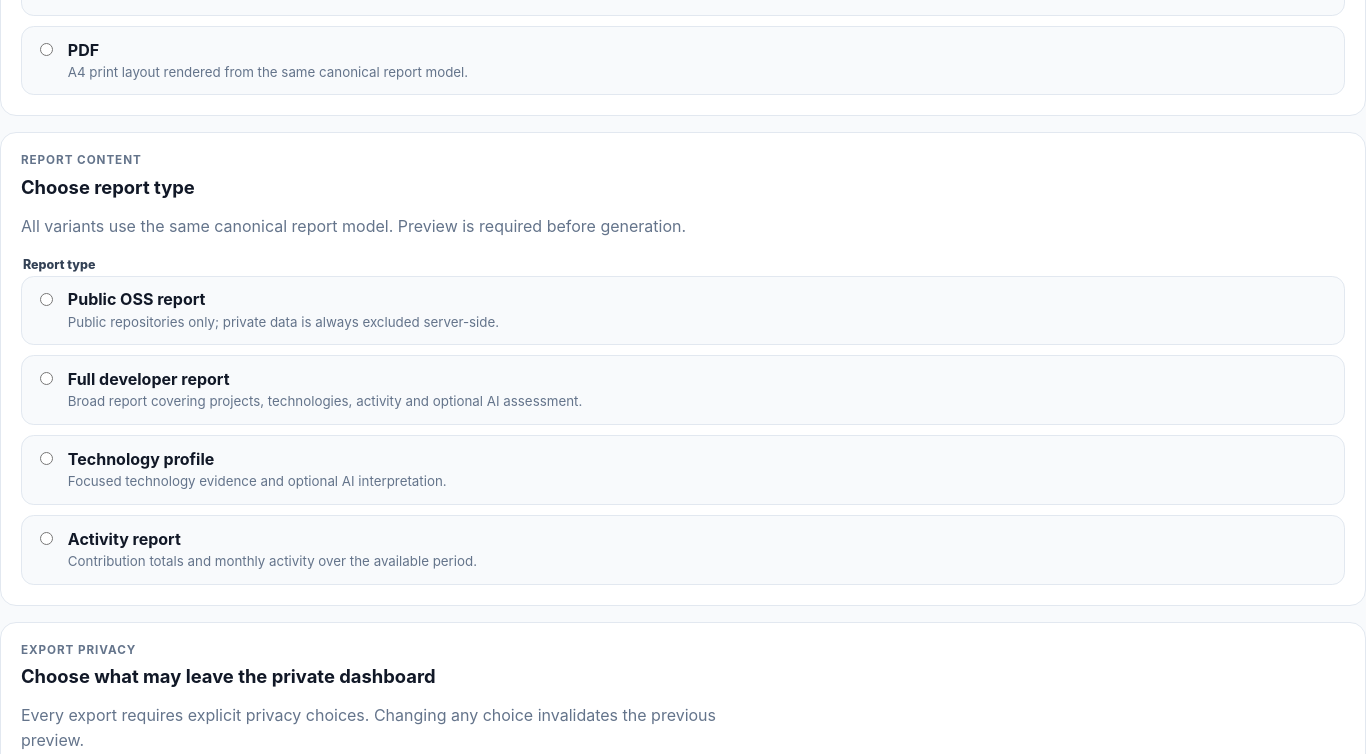
Test: API error-state layer: reports › shows an accessible error when preview API fails
(page scrolled)
Click the radio button labelled "Full developer report".
click(46, 379)  # box [40,372,53,385]
(page scrolled)
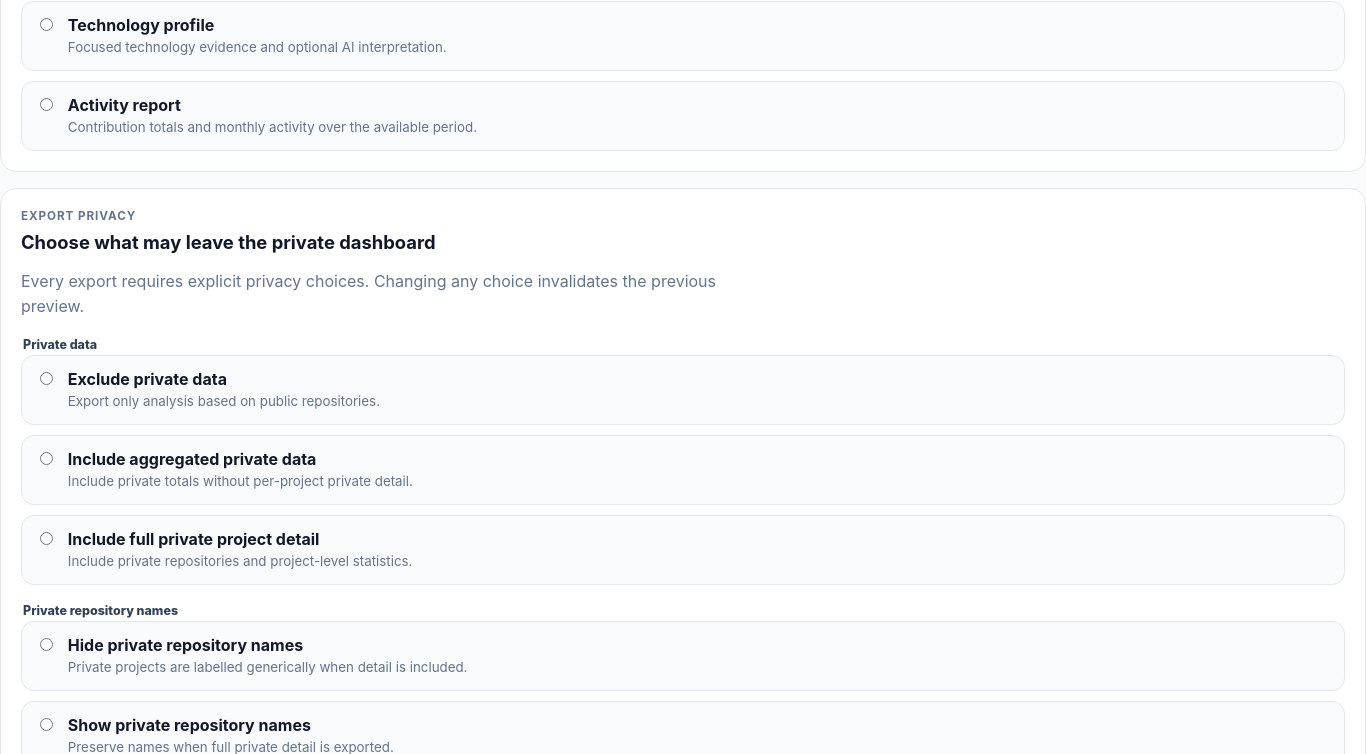
Click the radio button labelled "Exclude private data".
click(46, 379)  # box [40,372,53,386]
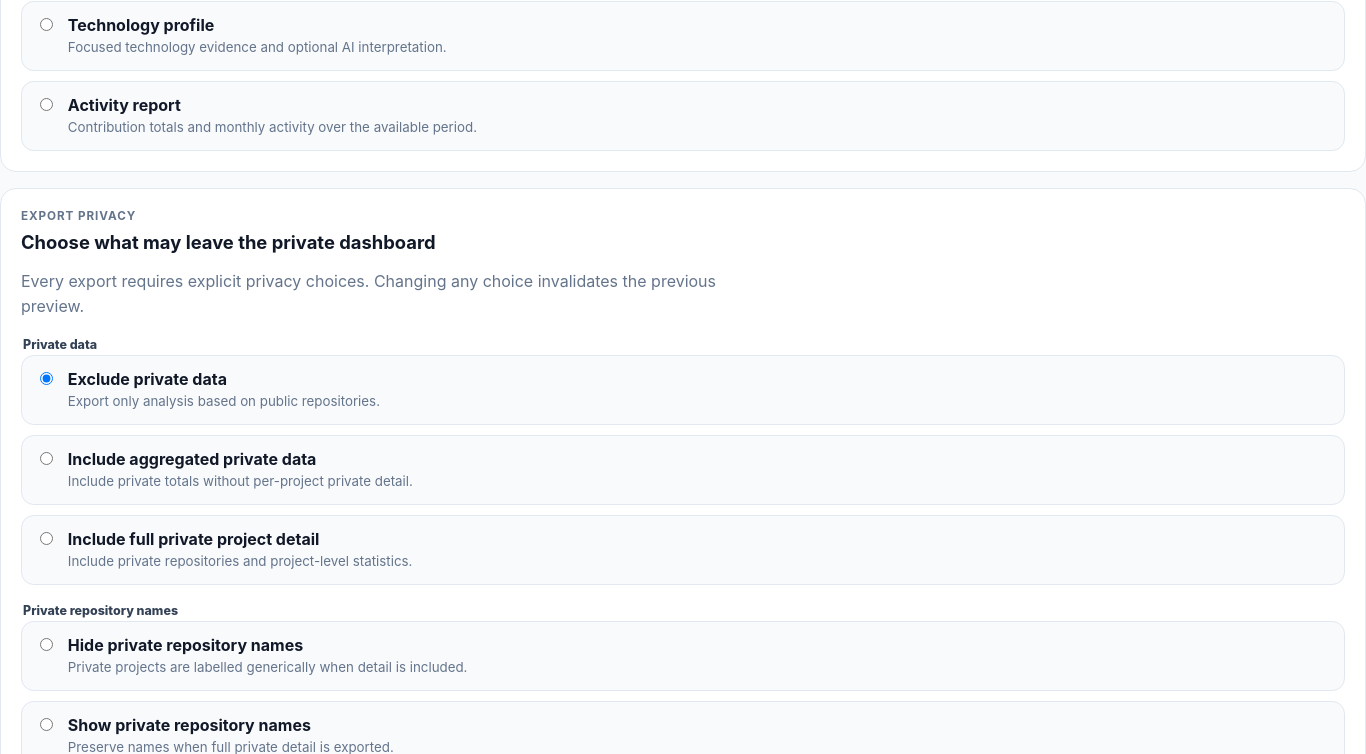
Click the radio button labelled "Hide private repository names".
click(46, 645)  # box [40,638,53,651]
(page scrolled)
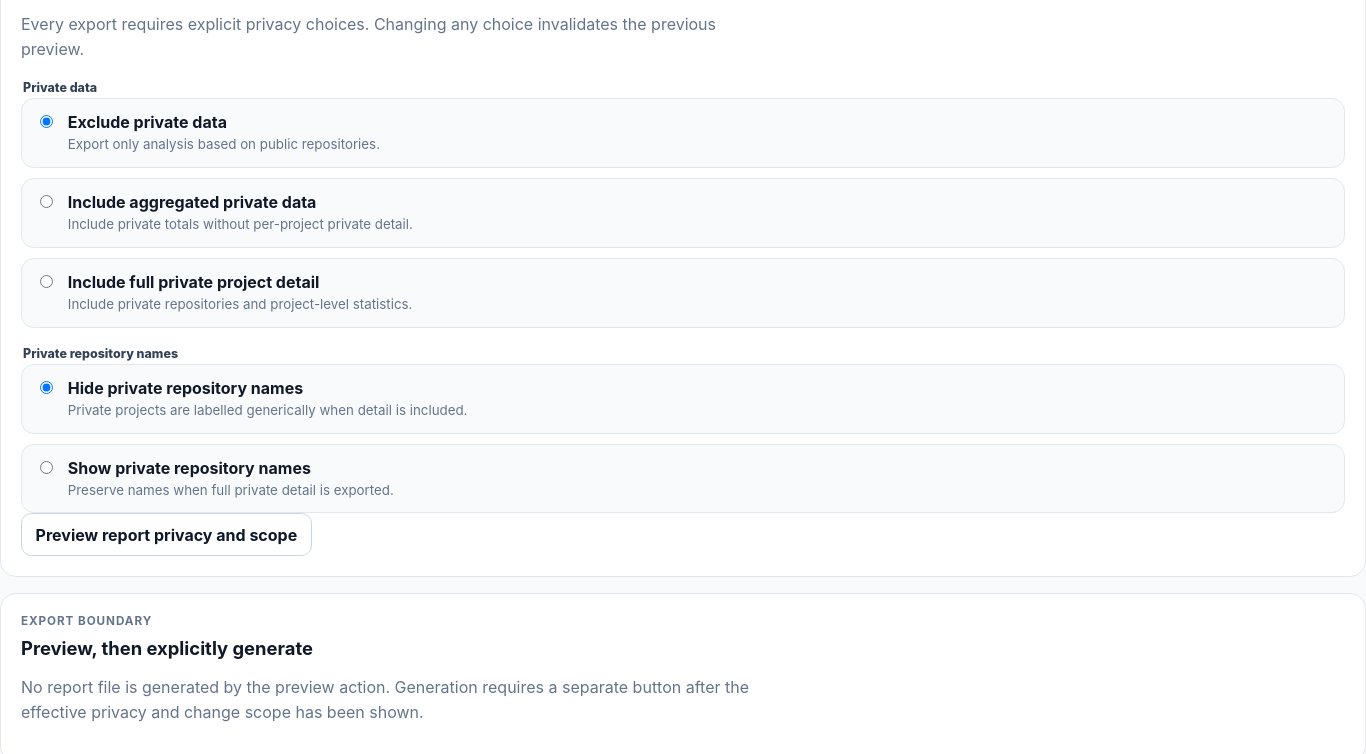
Click the button "Preview report privacy and scope".
click(166, 535)  # box [21,513,312,556]
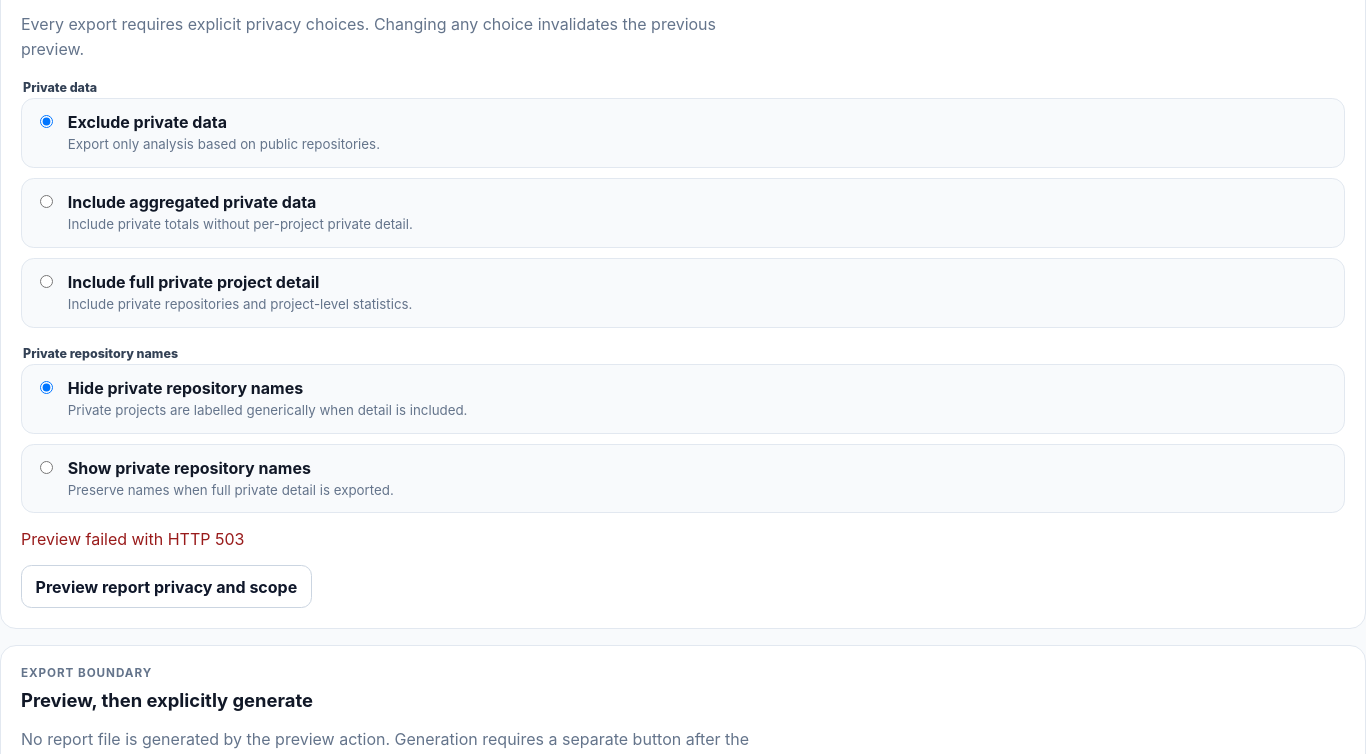
Now the message reads "Preview failed with HTTP 503", box [21,529,244,549]
